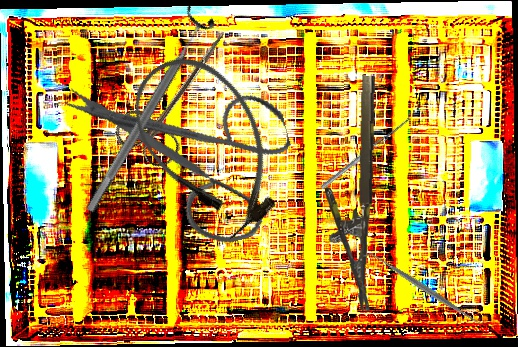Cannula: (112, 37, 303, 253)
Fixation Ring: (73, 3, 220, 221)
Iris Scissors: (61, 37, 312, 275), (110, 12, 248, 173)
Needle Holder: (320, 74, 379, 311)
Spatula Surgical: (362, 244, 487, 333), (317, 111, 414, 190)
